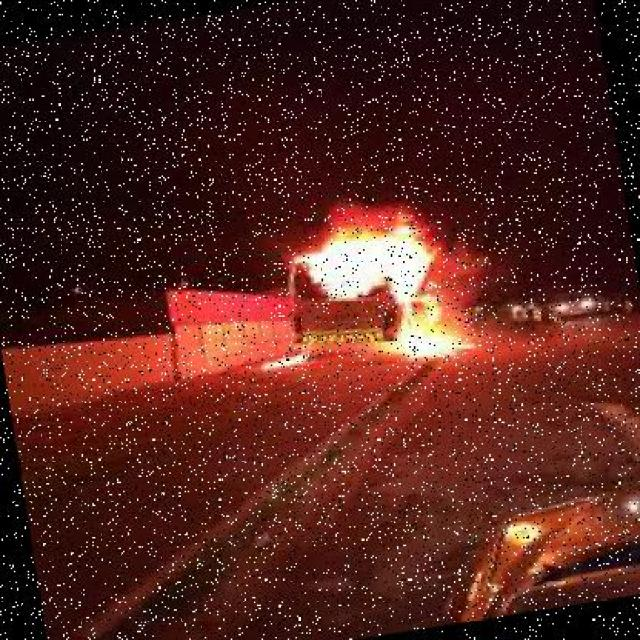fire: (248, 188, 486, 389)
